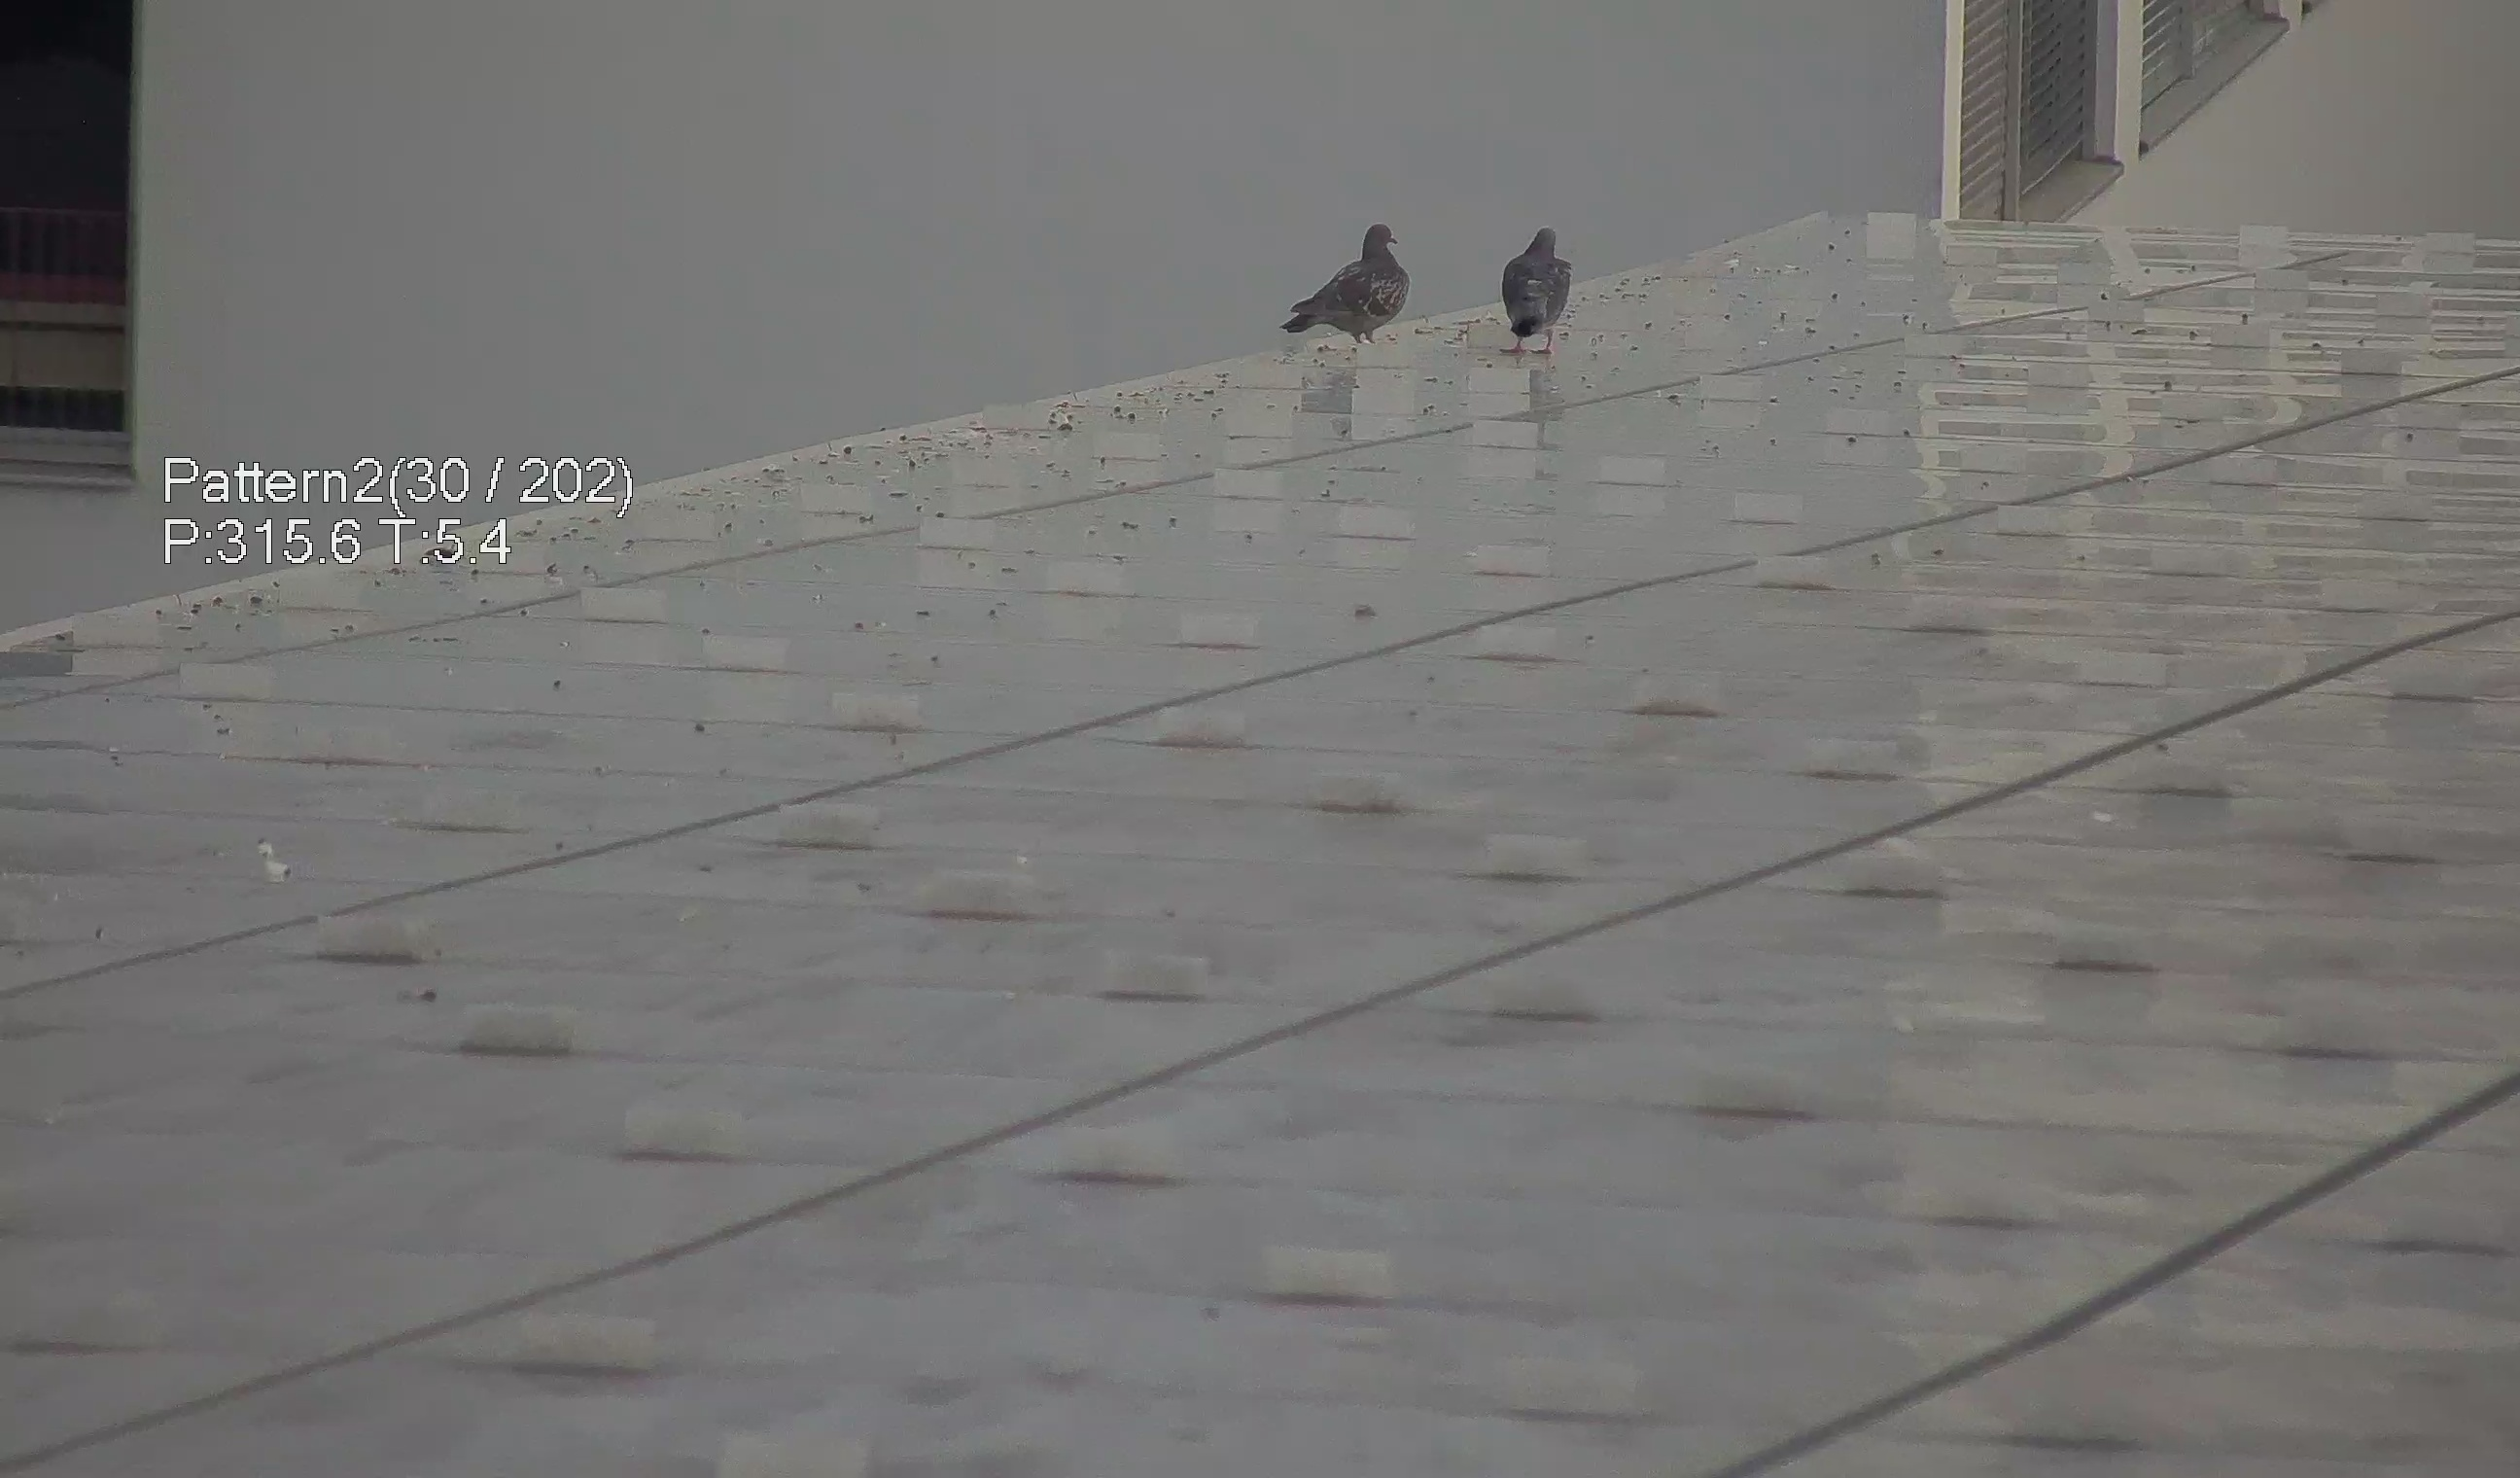Pigeon: (1278, 208, 1421, 348), (1504, 213, 1584, 354)
